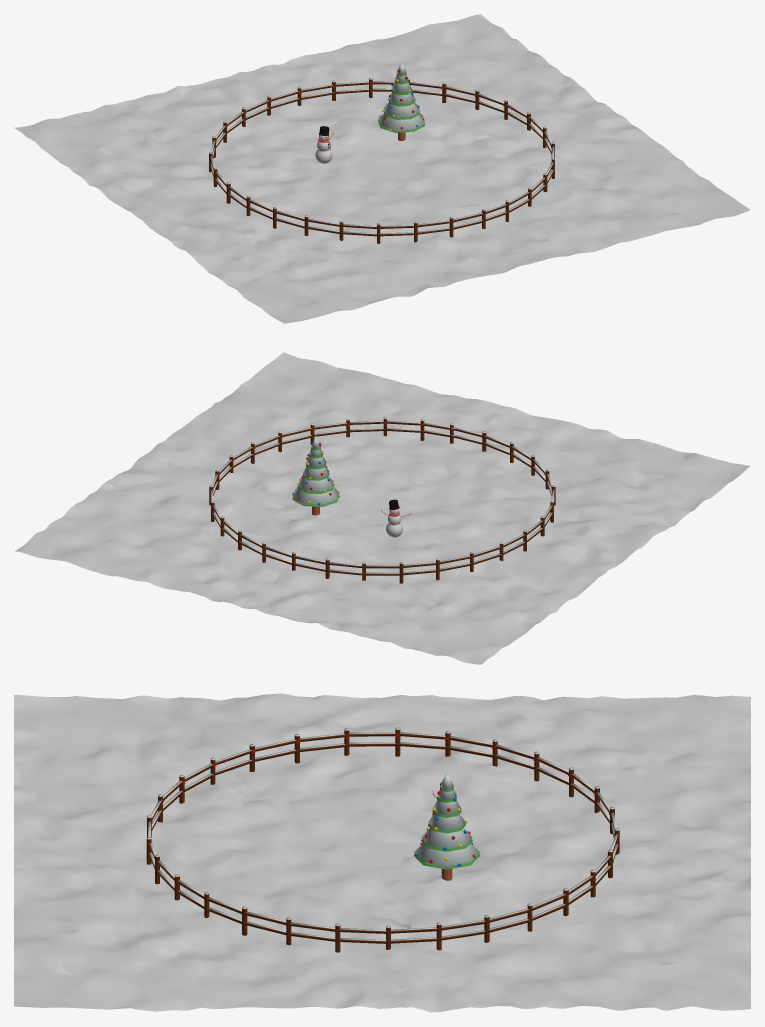
File: Christmas.glb
The picture shows the model from 3 angles, top to bottom: view 1: azimuth 30°, elevation 25°; view 2: azimuth 150°, elevation 25°; view 3: azimuth 270°, elevation 25°; orthographic projection. The views are drawn at different scales.
Parts seen in each view (by area): view 1: Snow, Fence, .002, Plane.001; view 2: Snow, Fence, .002, Plane.001; view 3: Snow, Fence, .002, Plane.001, .018.
Part boxes in pixels (x1,y1,x2,y2): Snow: [14, 14, 750, 323]; Fence: [209, 78, 554, 243]; .002: [378, 61, 424, 130]; Plane.001: [353, 156, 411, 179]; Snow: [14, 352, 750, 664]; Fence: [209, 417, 555, 583]; .002: [292, 436, 339, 505]; Plane.001: [359, 497, 406, 524]; Snow: [14, 693, 750, 1012]; Fence: [146, 727, 619, 952]; .002: [414, 771, 479, 866]; Plane.001: [346, 841, 419, 867]; .018: [414, 787, 480, 880].
Bounding box in the file's own units: 74.34 × 12.94 × 74.34.
